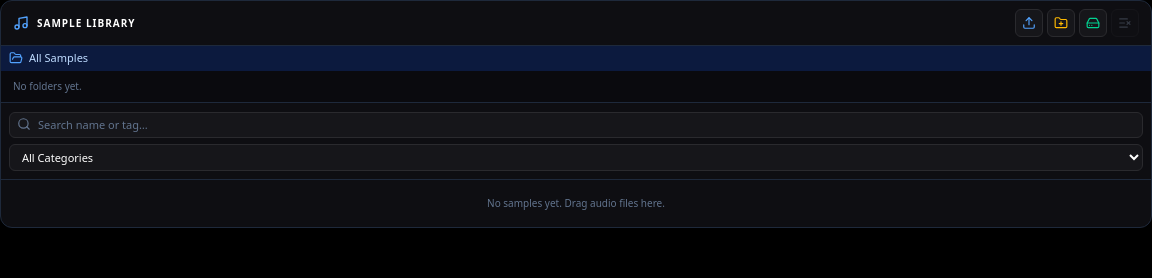
Test: SampleBrowser folder linking › scans a picked folder (with subfolders) and shows the linked root
Click the button titled "Link a folder on disk".
click(1093, 23)  # box 1079,9 -> 1107,37
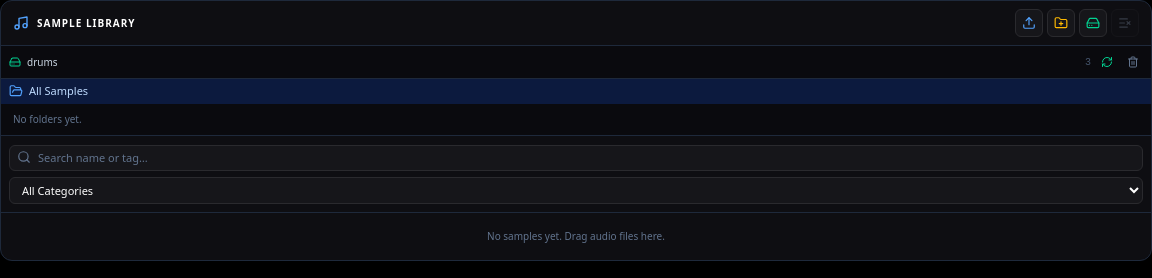
Check: the text "drums" is shown, box 27,54 -> 58,68
